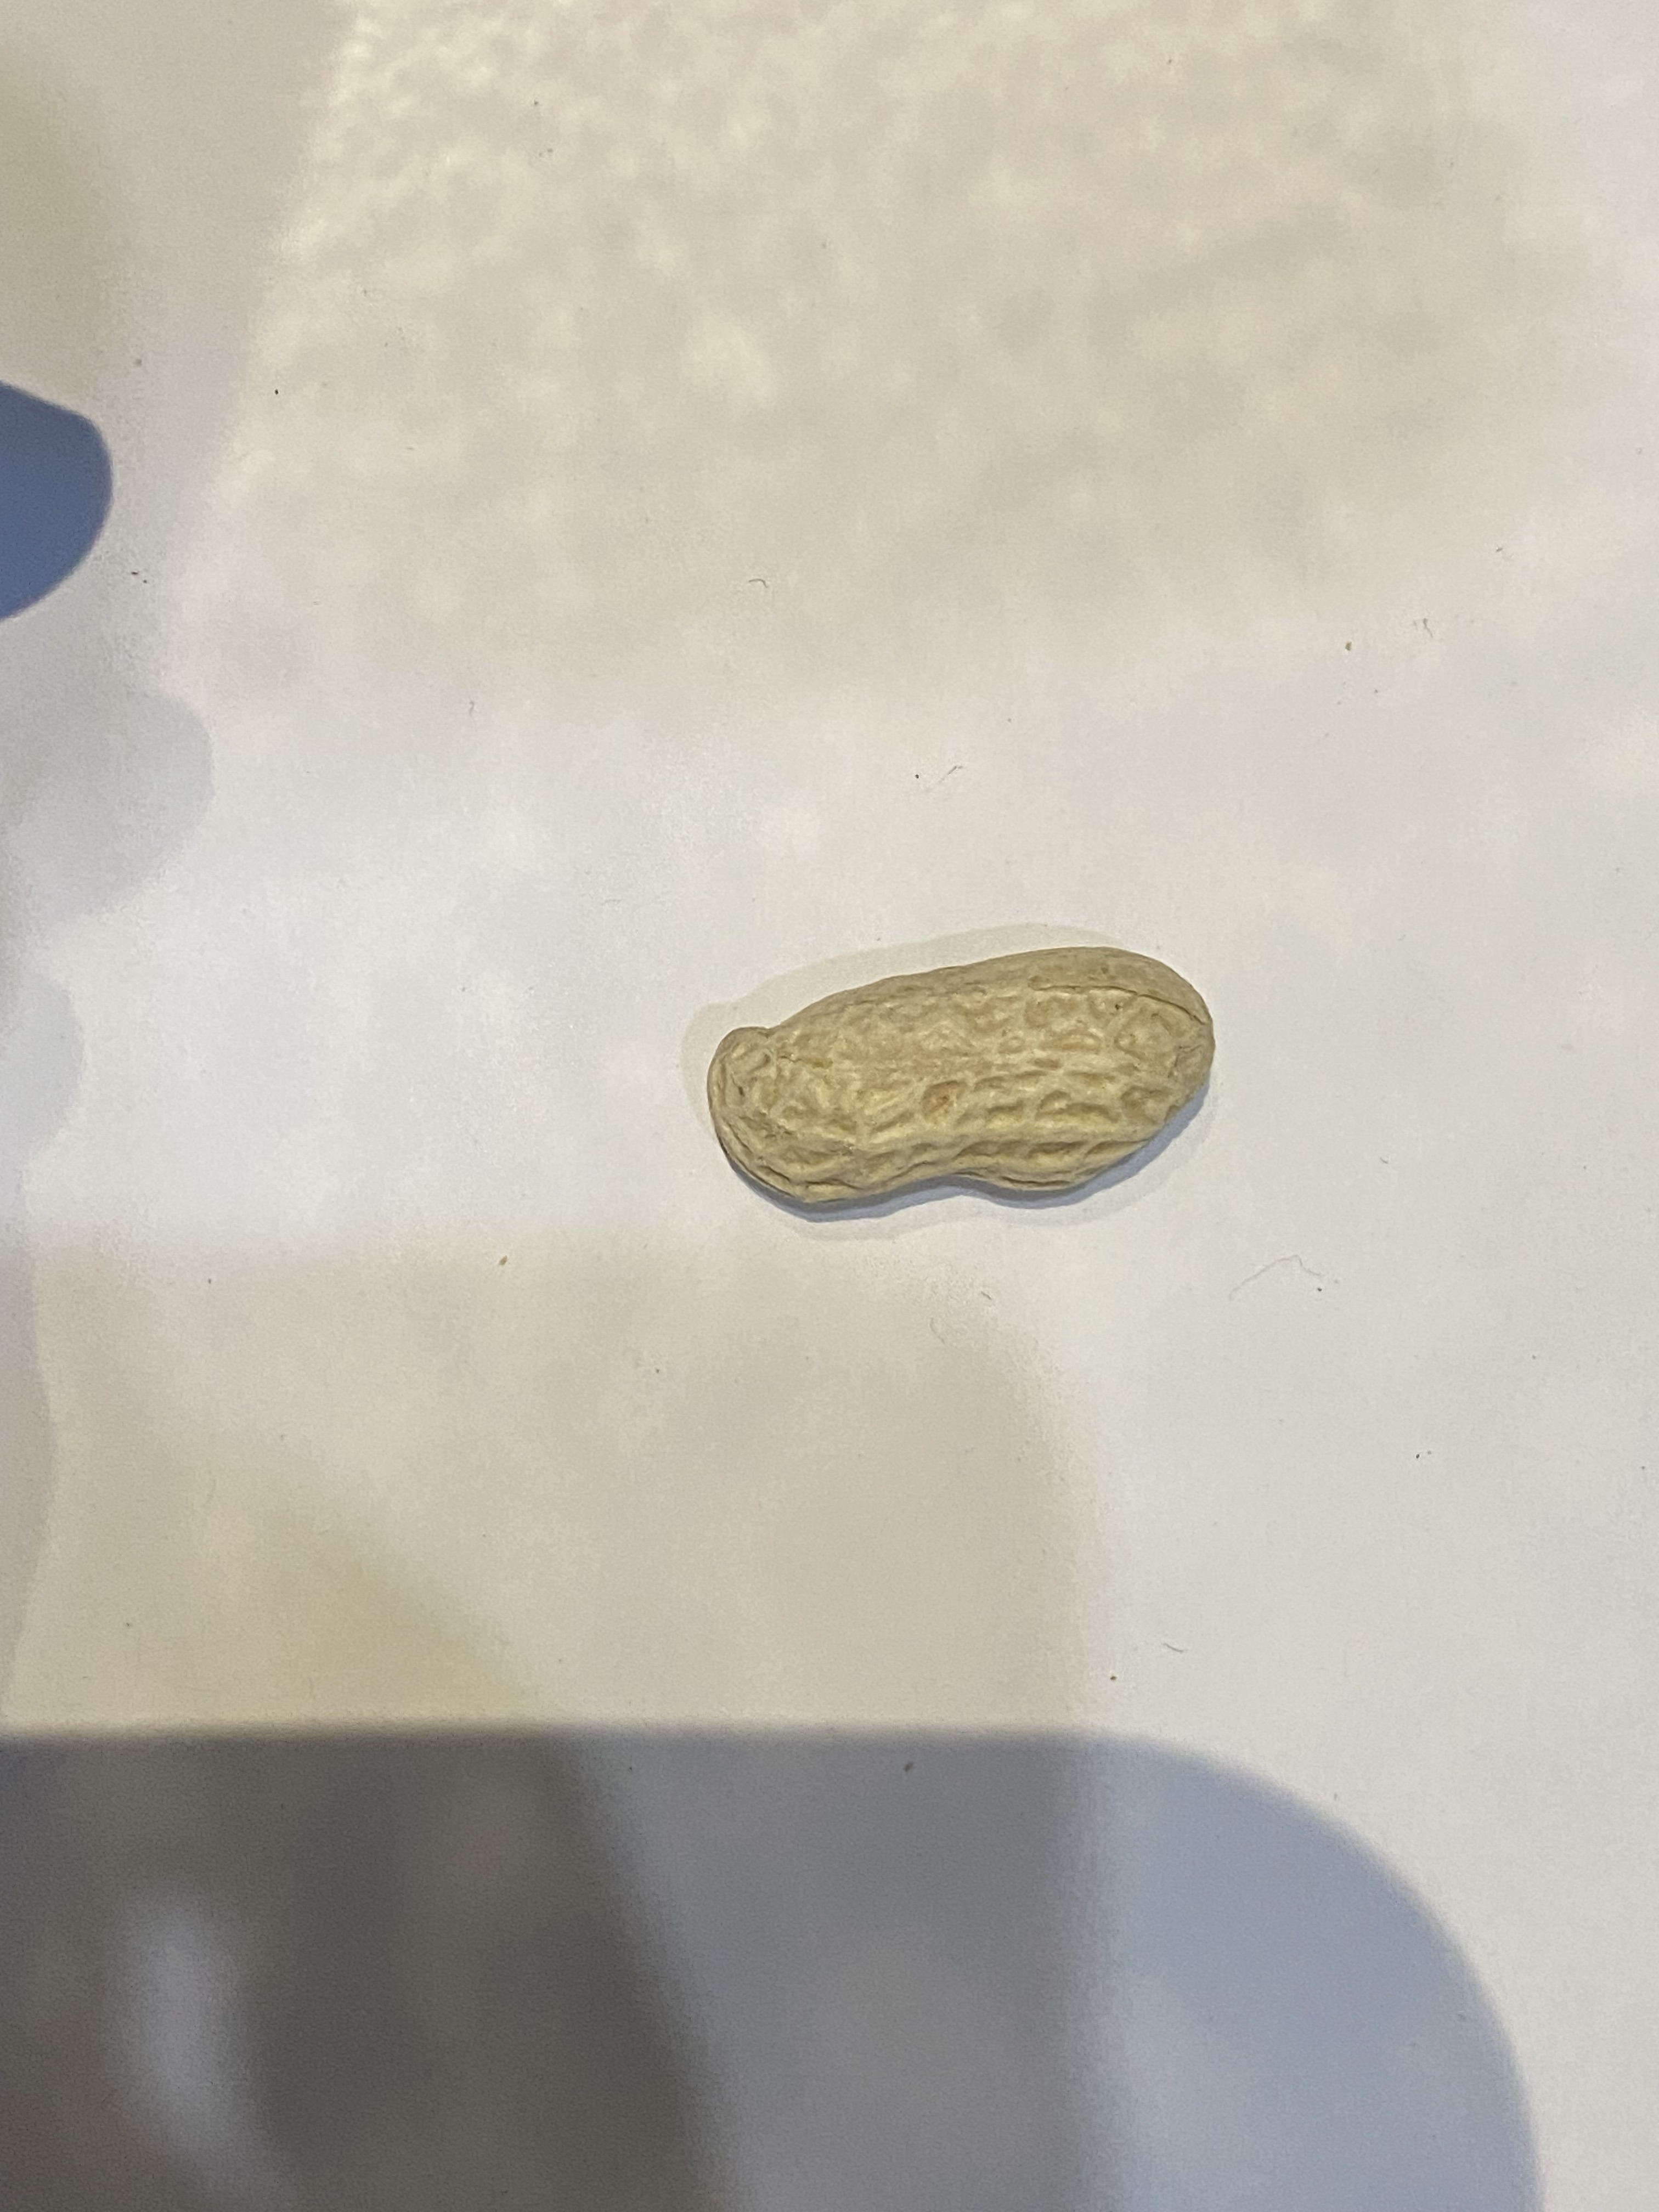kacang2: (694, 934, 1239, 1209)
